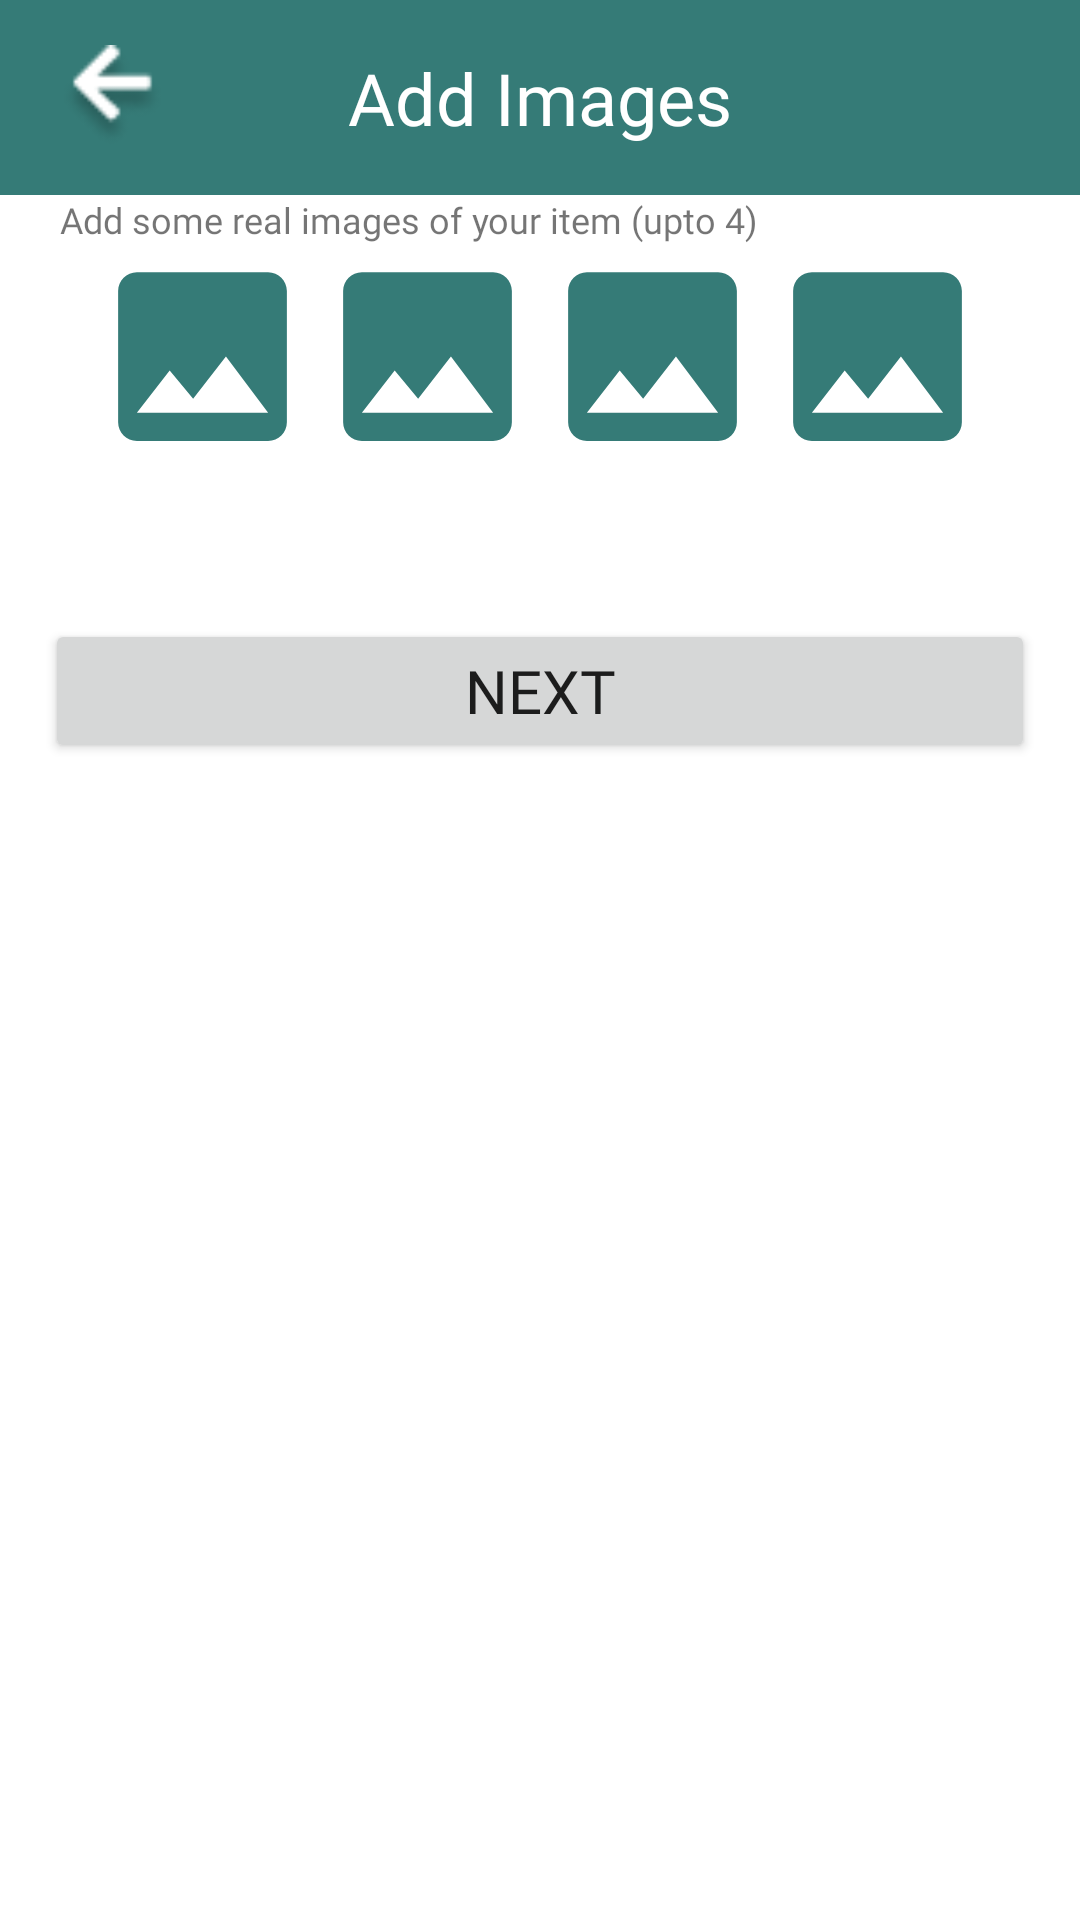

Screen size 1080w x 1920h. Icon name, then its box in pixels as (x1, y1, x2, y2):
backarrow: (73, 45, 152, 122)
